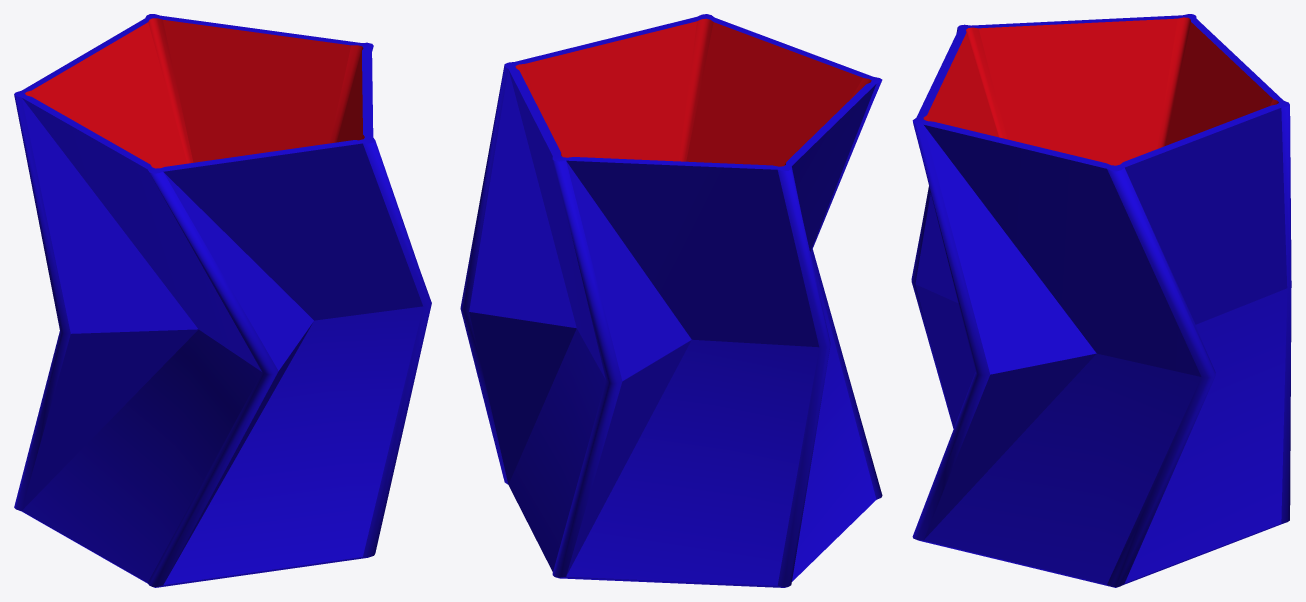
The model's file is Dustbox_A_01.fbx.
The picture shows the model from 3 angles, left to right: view 1: azimuth 30°, elevation 25°; view 2: azimuth 150°, elevation 25°; view 3: azimuth 270°, elevation 25°; orthographic projection.
Parts seen in each view (by area): view 1: Dustbox_A_01; view 2: Dustbox_A_01; view 3: Dustbox_A_01.
Part boxes in pixels (box(x1,y1,x2,y2)): Dustbox_A_01: box(14, 14, 431, 587); Dustbox_A_01: box(460, 14, 882, 587); Dustbox_A_01: box(911, 14, 1291, 587).
Bounding box in the file's own units: 71.62 × 89.15 × 73.08.
